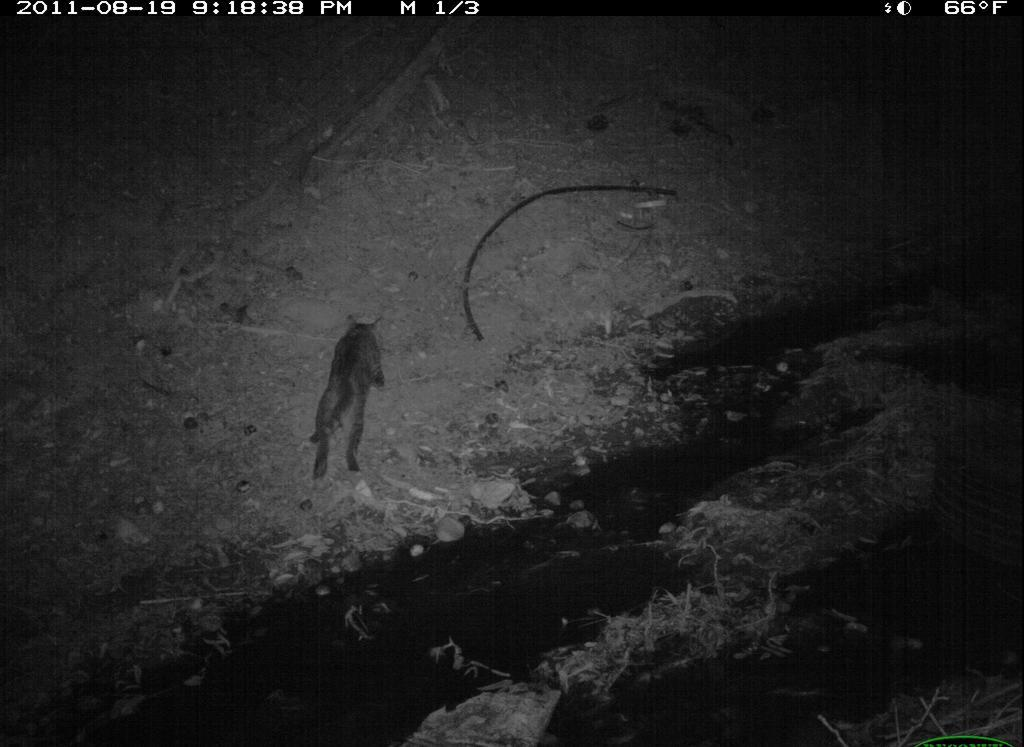cat: (290, 304, 410, 504)
